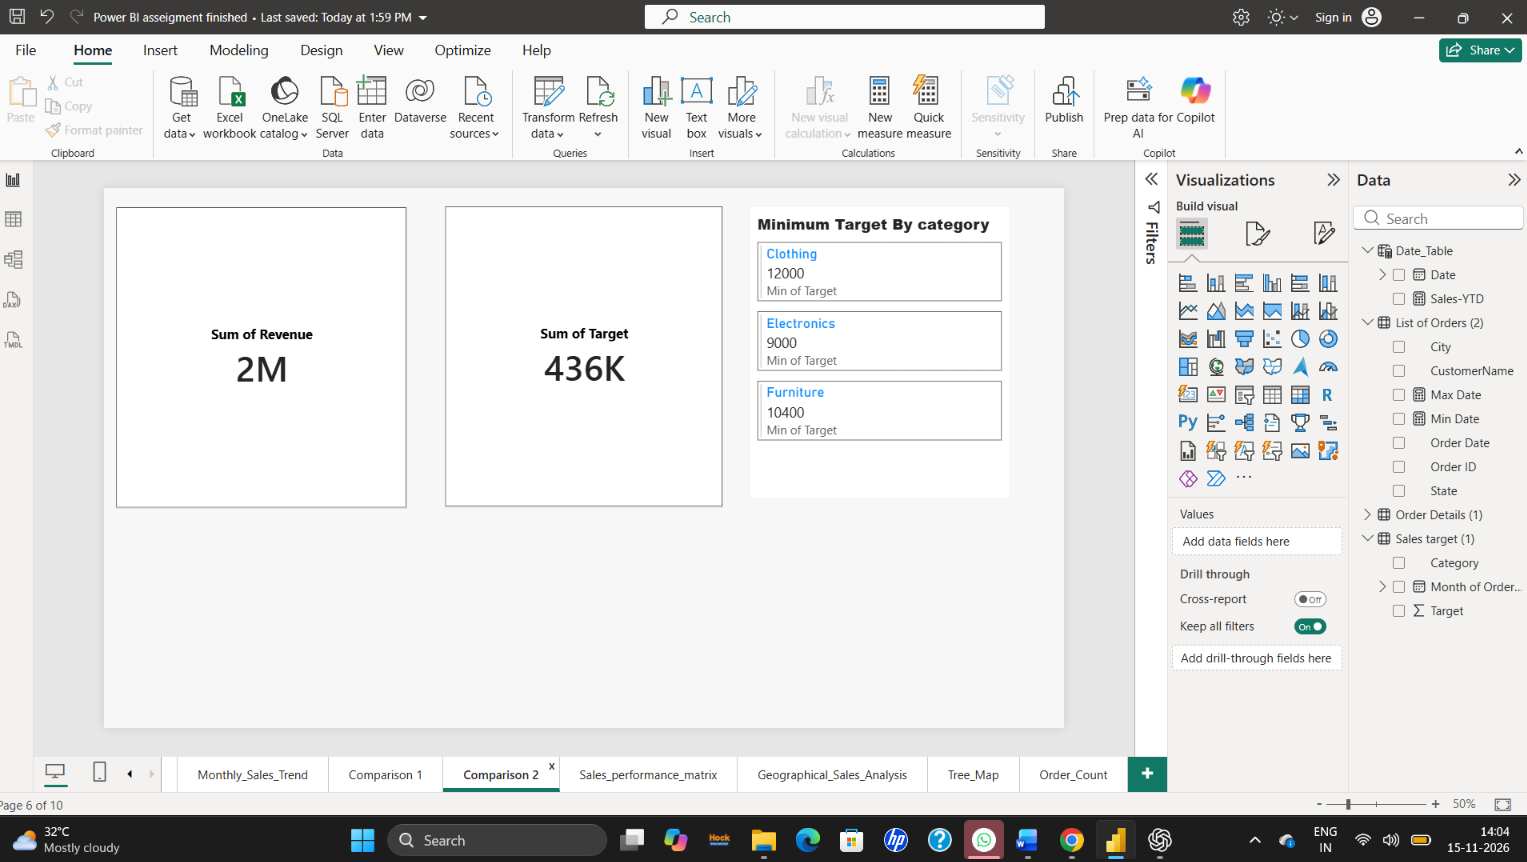

The dashboard page shown, as its layout file describes it:
{"tool":"powerbi","page":{"name":"Comparison 2 ","canvas":[1920,1080],"ordinal":5},"visuals":[{"type":"cardVisual","fields":{"Data":["Sum(Order Details (1).Revenue)"]},"box":[24,38,582,602],"z":0},{"type":"cardVisual","fields":{"Data":["Sum(Sales target (1).Target)"]},"box":[682,36,556,602],"z":1000},{"type":"multiRowCard","title":"Minimum Target By category","fields":{"Values":["Sales target (1).Category","Min(Sales target (1).Target)"]},"box":[1290,36,522,586],"z":2000}]}

Visuals, with their boxes on the page's 1920x1080 design canvas (x1, y1, x2, y2). These are canvas units, not pixel positions in the 1527x862 screenshot, which may show the page scaled, cropped or inside an application window:
cardVisual - Sum(Order Details (1).Revenue): {"left": 24, "top": 38, "right": 606, "bottom": 640}
cardVisual - Sum(Sales target (1).Target): {"left": 682, "top": 36, "right": 1238, "bottom": 638}
"Minimum Target By category" multiRowCard: {"left": 1290, "top": 36, "right": 1812, "bottom": 622}
